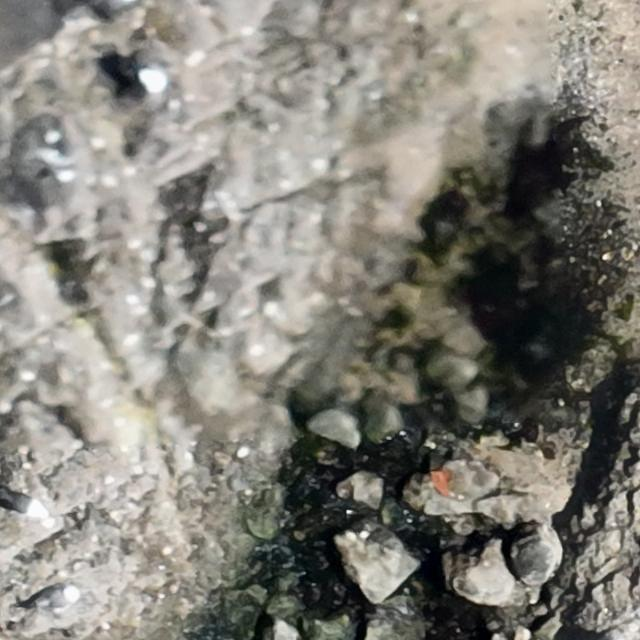umineko: (4, 489, 45, 519), (136, 66, 165, 90)
